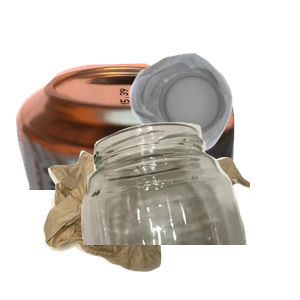glass: (74, 120, 300, 300)
metal: (13, 61, 240, 241)
plastic: (127, 51, 300, 197)
trash: (40, 138, 280, 300)
